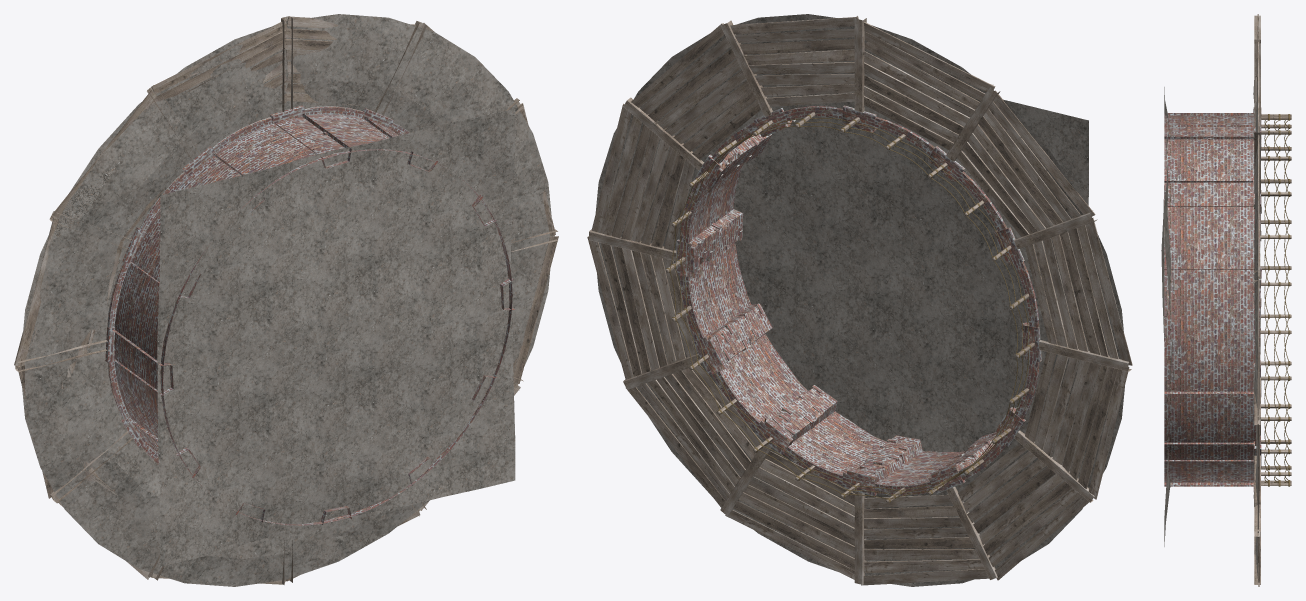
The model's file is dice-arena.glb.
3 views of the same model, side by side, from view 1: azimuth 30°, elevation 25°; view 2: azimuth 150°, elevation 25°; view 3: azimuth 270°, elevation 25° (orthographic). The views are drawn at different scales.
Parts seen in each view (by area): view 1: Object_4, Object_3, Object_5; view 2: Object_5, Object_4, Object_3, Object_7, Object_6; view 3: Object_3, Object_5, Object_7, Object_4, Object_6.
Boxes of the visible parts, <box> form: Object_4: <box>20,14,553,586</box>; Object_3: <box>105,105,515,525</box>; Object_5: <box>14,16,558,584</box>; Object_5: <box>587,16,1132,585</box>; Object_4: <box>595,14,1125,586</box>; Object_3: <box>676,105,1041,495</box>; Object_7: <box>666,115,1031,502</box>; Object_6: <box>670,117,1028,498</box>; Object_3: <box>1164,107,1261,491</box>; Object_5: <box>1254,14,1291,586</box>; Object_7: <box>1264,114,1290,486</box>; Object_4: <box>1161,26,1257,578</box>; Object_6: <box>1264,120,1288,482</box>.
Size of the model in its own units: 0.0736 by 0.0733 by 0.0166.
4 materials, 4 textured.
